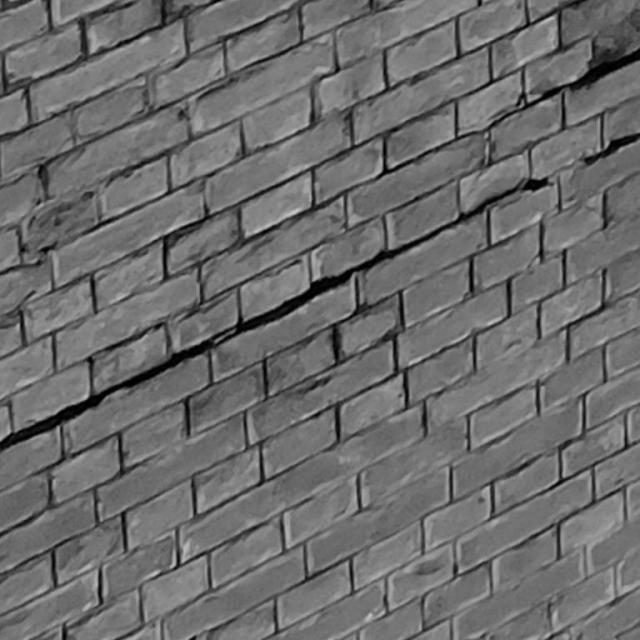crack: (1, 174, 553, 451), (527, 48, 640, 107), (583, 133, 640, 166)
